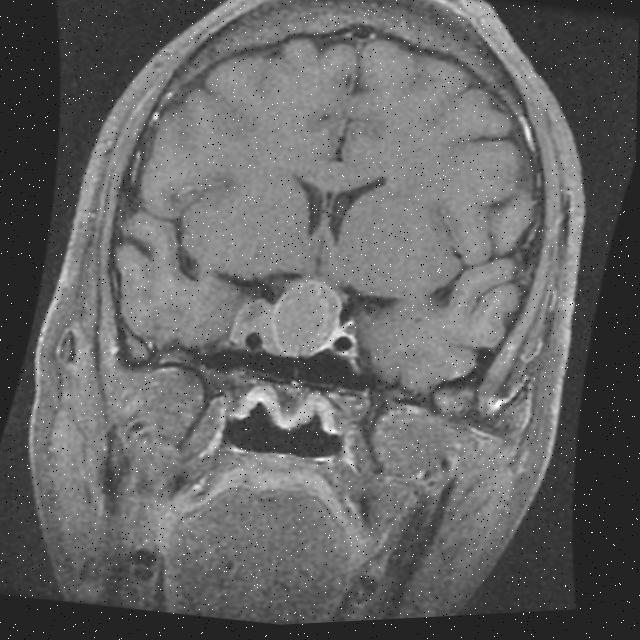Pituitary: (261, 271, 349, 368)
